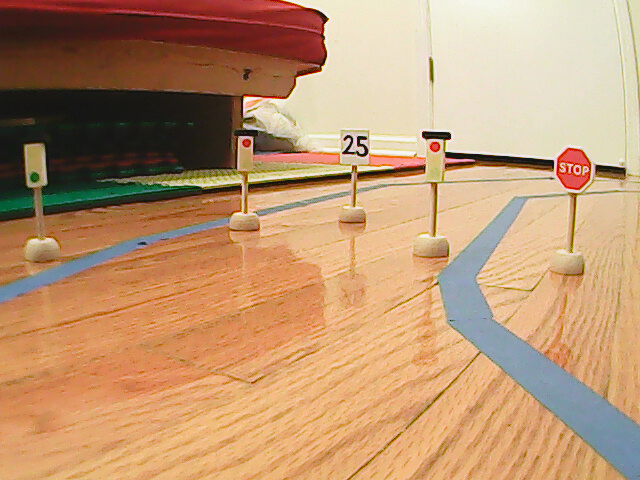Green Traffic Light: (18, 138, 53, 188)
Red Traffic Light: (422, 131, 452, 186), (231, 128, 260, 182)
Speed Limit 25: (339, 127, 373, 170)
Stop Sign: (551, 148, 595, 194)
